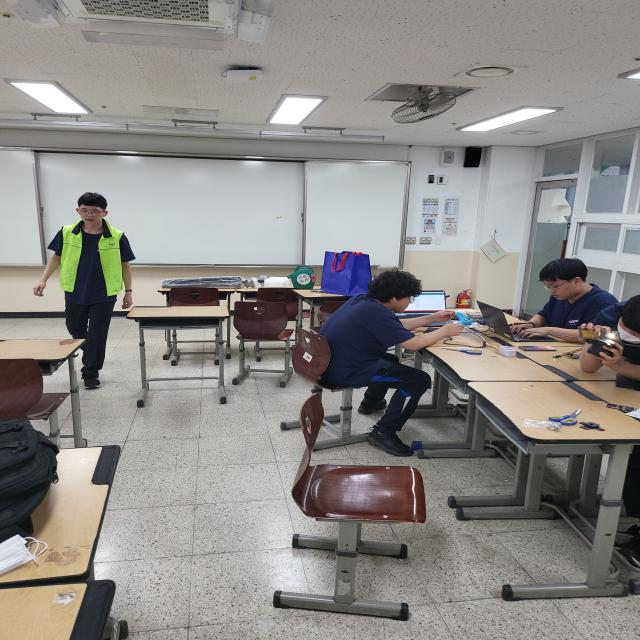weston_spy: (43, 216, 145, 306)
